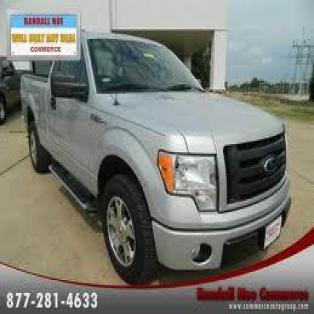Auto: (17, 28, 296, 292)
